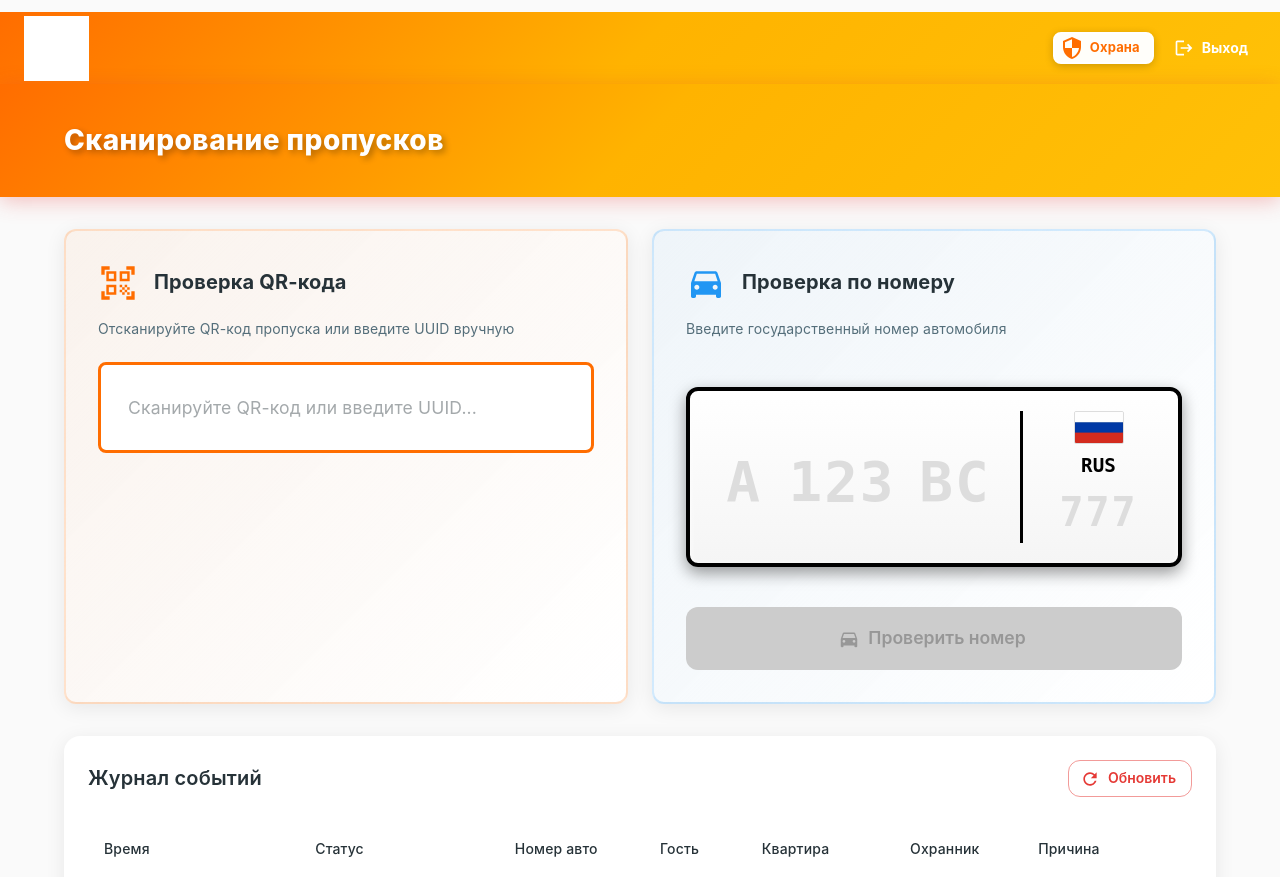
SecurityPage › validates QR code on Enter
In the field with placeholder "Сканируйте QR-код или введите UUID...": (346, 408) [114, 379, 578, 437], type "valid-uuid"
Then press Enter
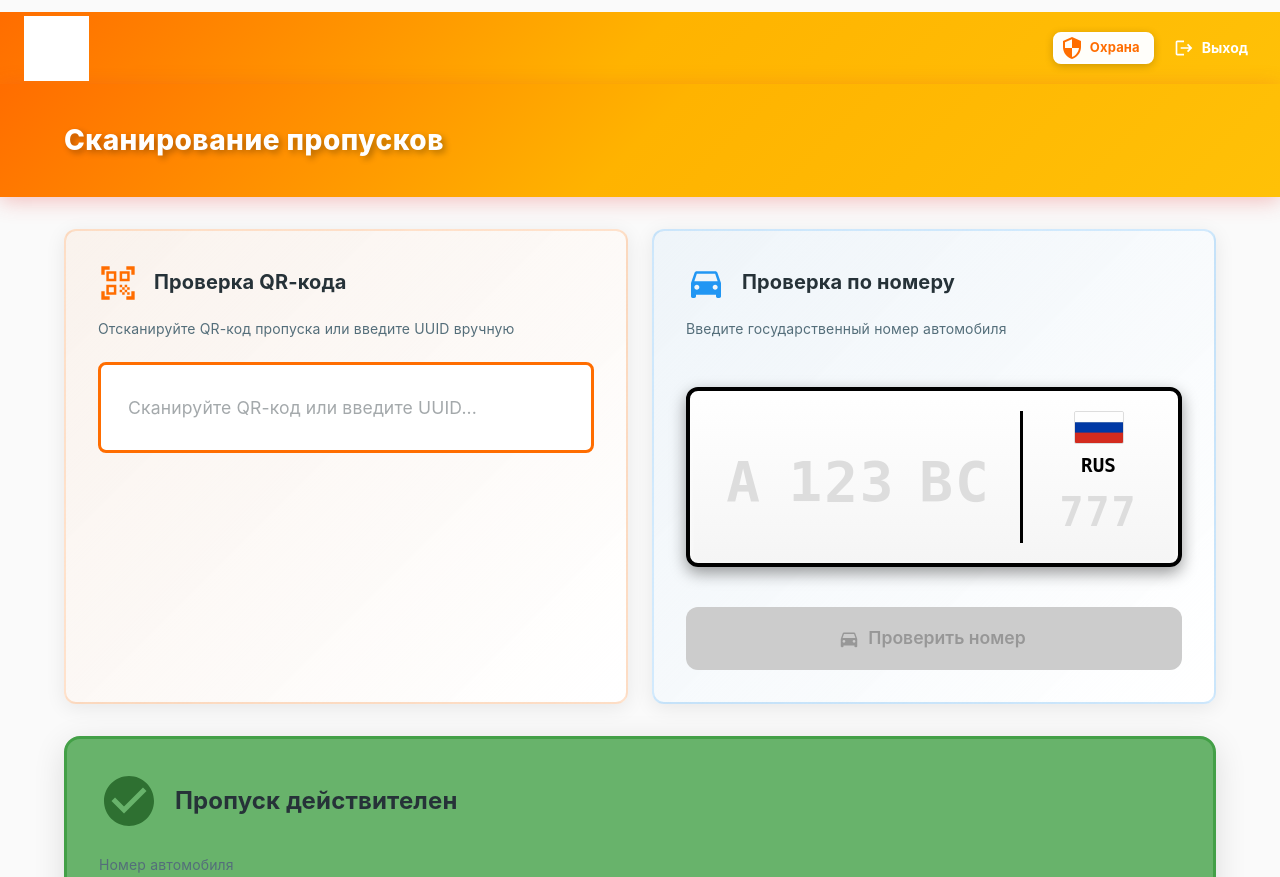
Expected: the heading "Пропуск действителен" is shown, [175, 786, 458, 816]
